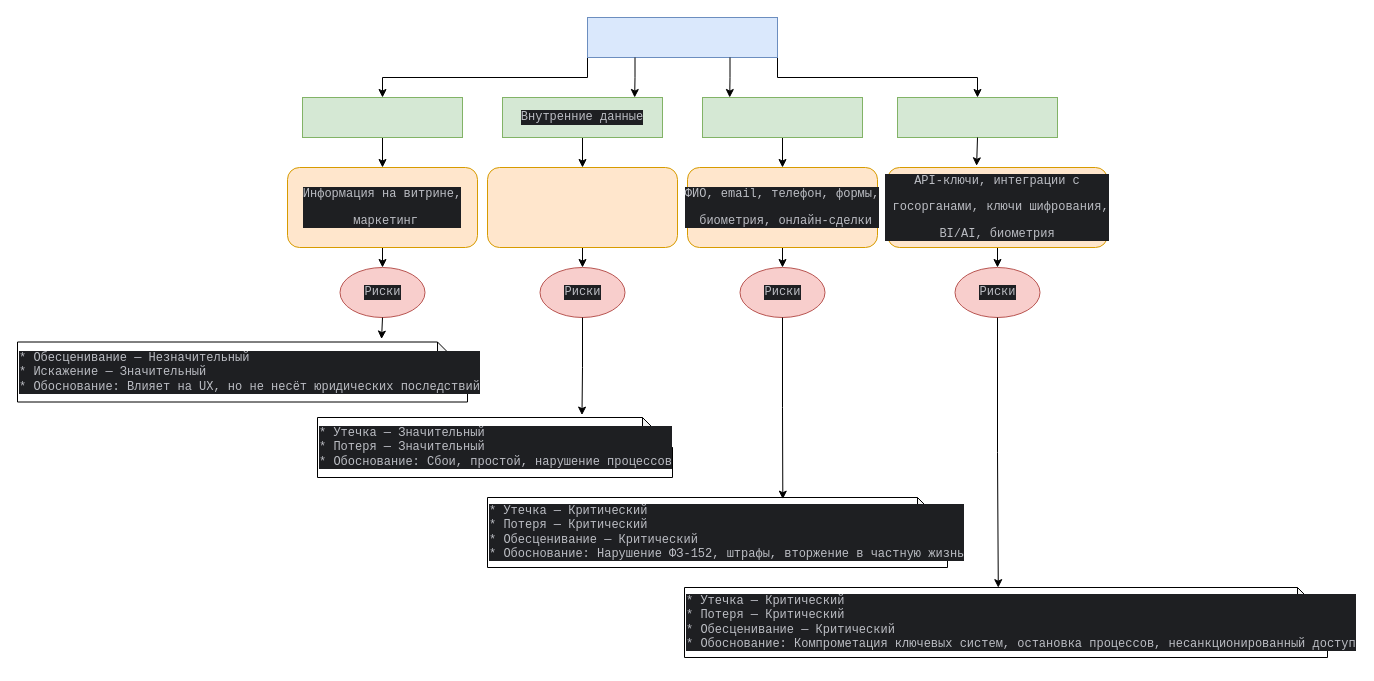
Some shapes in this 1374 by 681 pixel diagram are drawn without their labels. Each missing label, with the centre of its shape:
"Безопасность данных" belongs at point (682, 37).
"Конфигурации микросервисов, служебные данные" belongs at point (582, 207).
"Конфиденциальные данные" belongs at point (782, 117).
"Публичные данные" belongs at point (382, 117).
"Секретные данные" belongs at point (977, 117).
